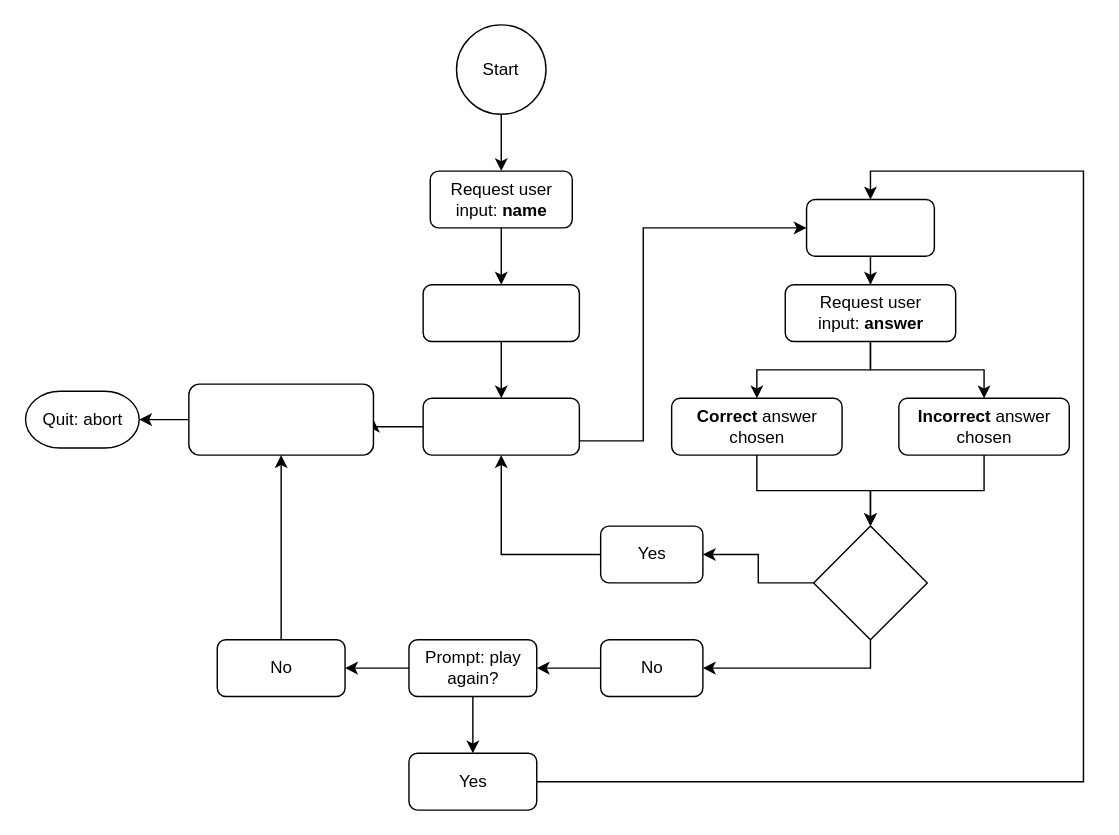
The diagram is 1119 pixels wide and 835 high, and some of its shapes have lost their labels. Here are the shapes that lost their labels. From the top down, the centre of each, then its label:
At point 869,227: "Quiz: display question".
At point 500,312: "Welcome prompt".
At point 280,419: "Quit: tally and display score".
At point 500,426: "Options: quiz, or quit".
At point 869,582: "still questions?".
